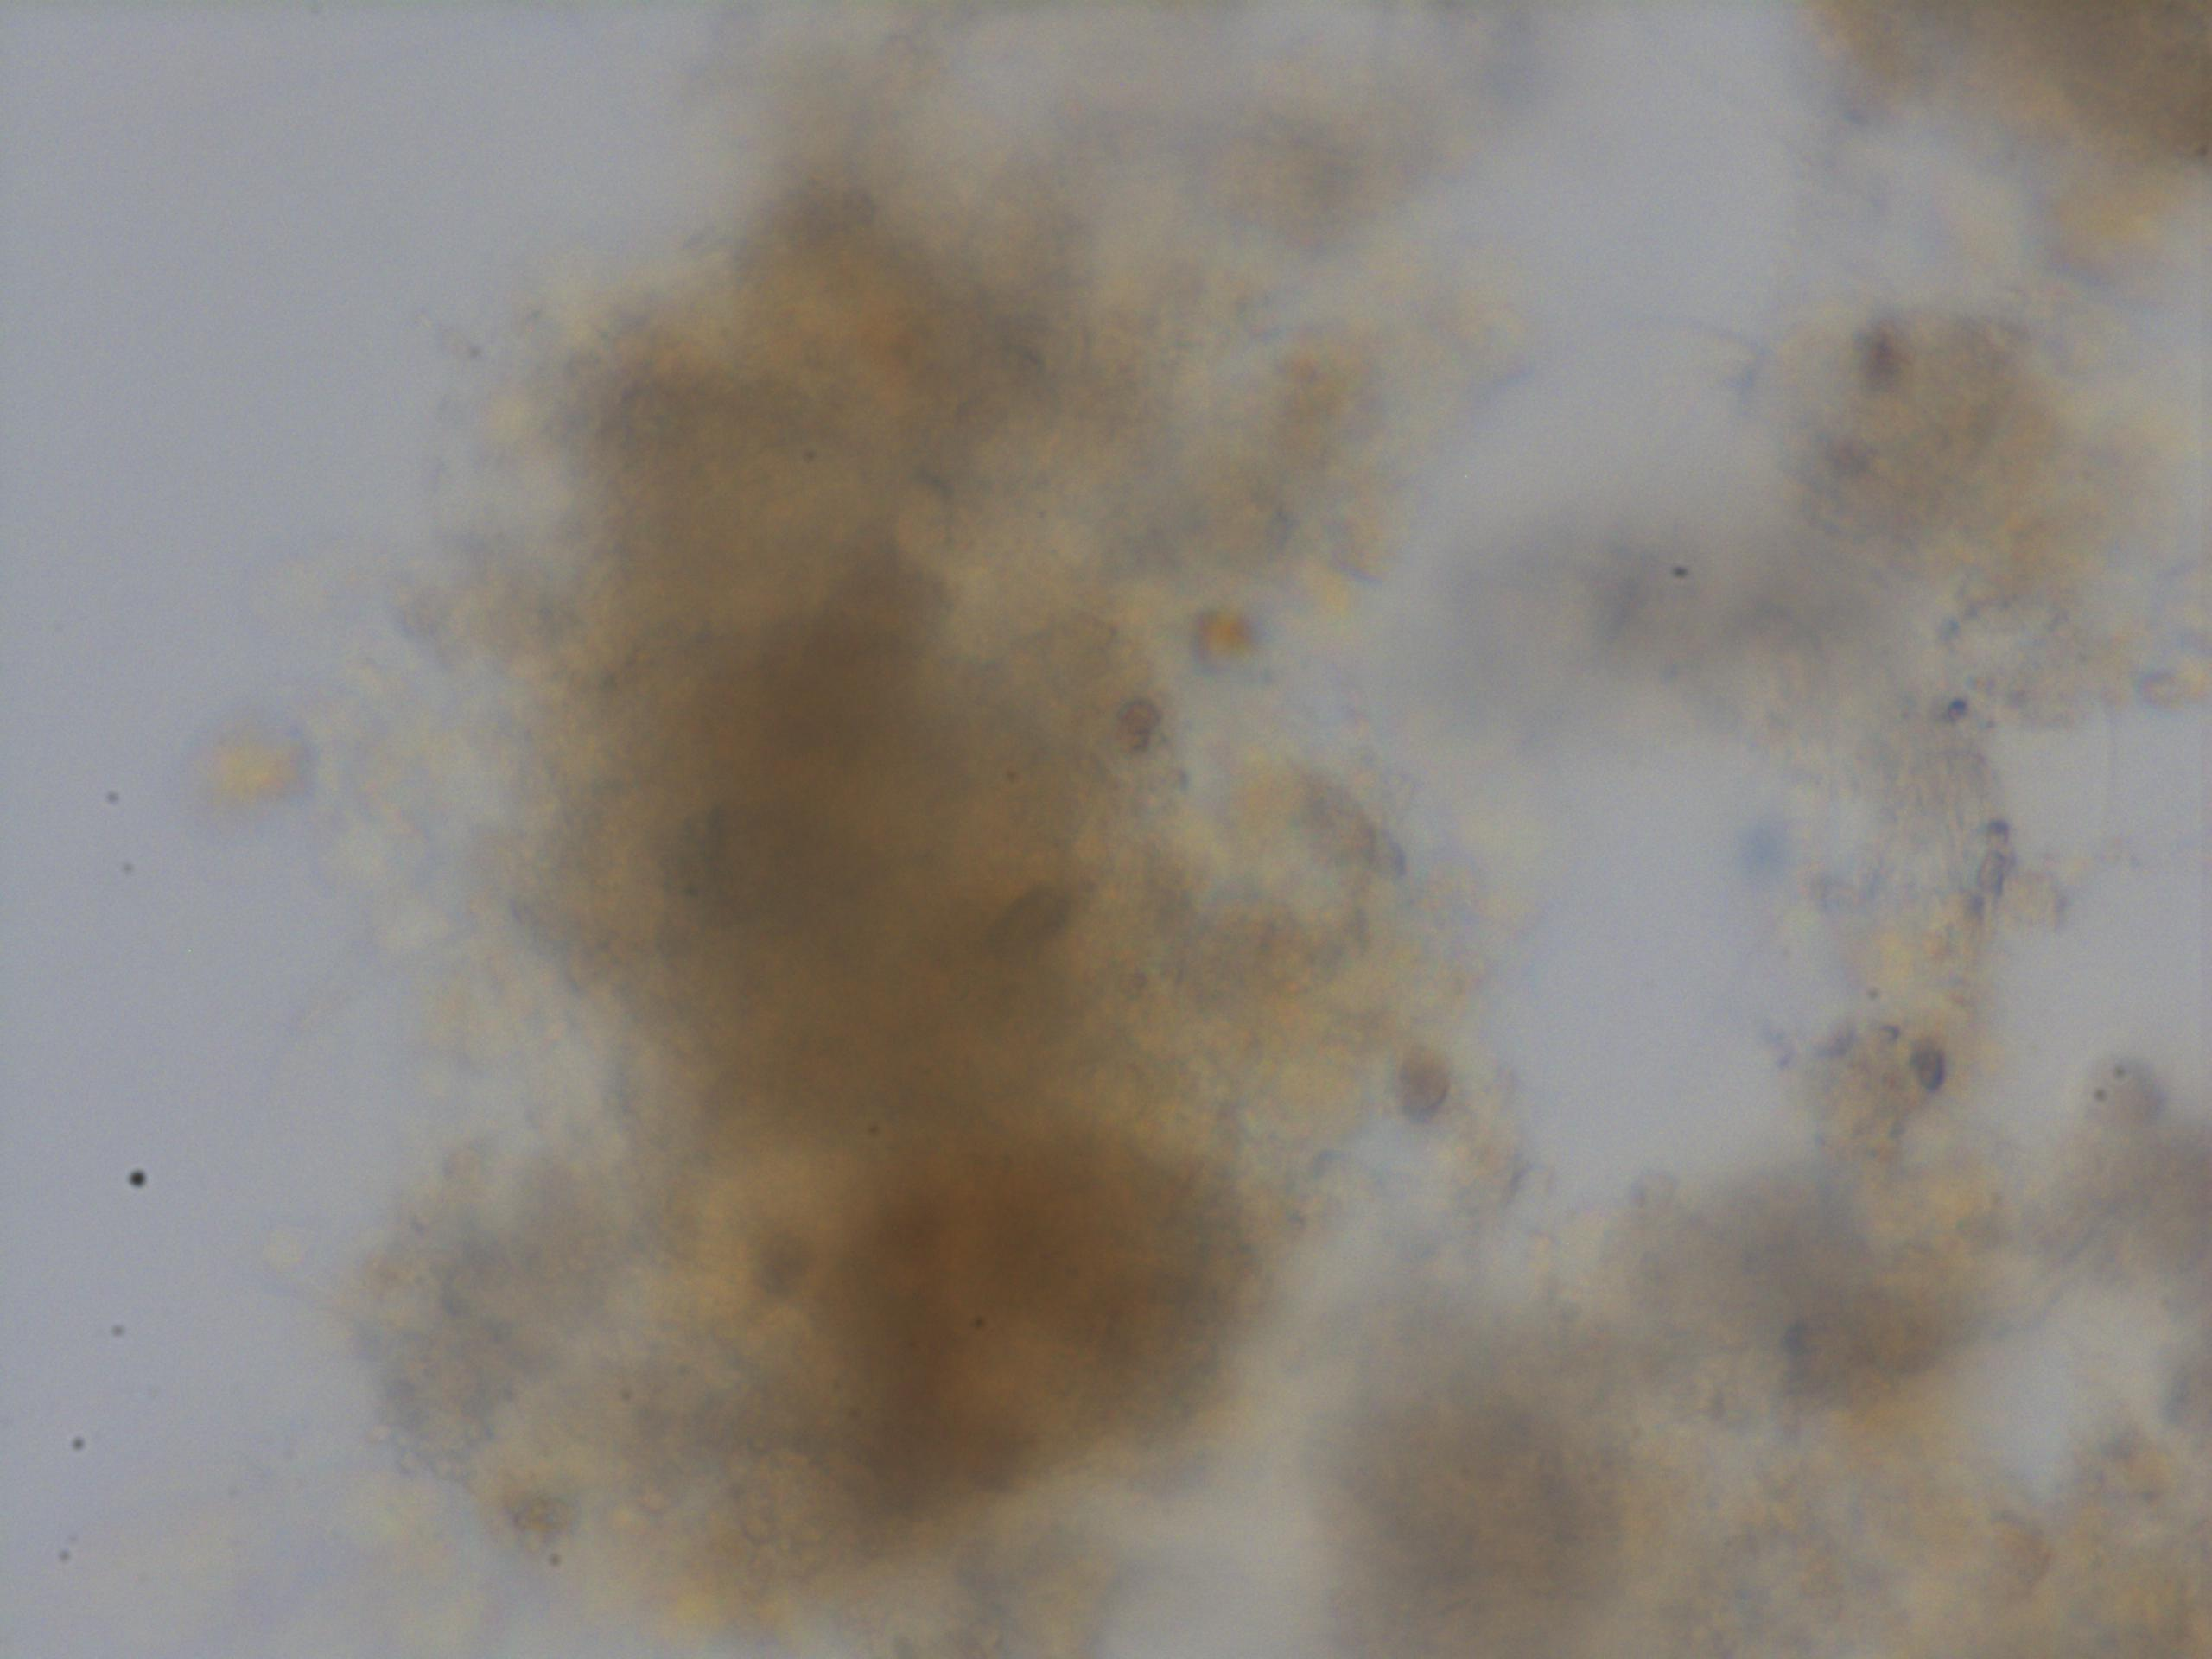spherical_floc: (470, 108, 1346, 1629)
